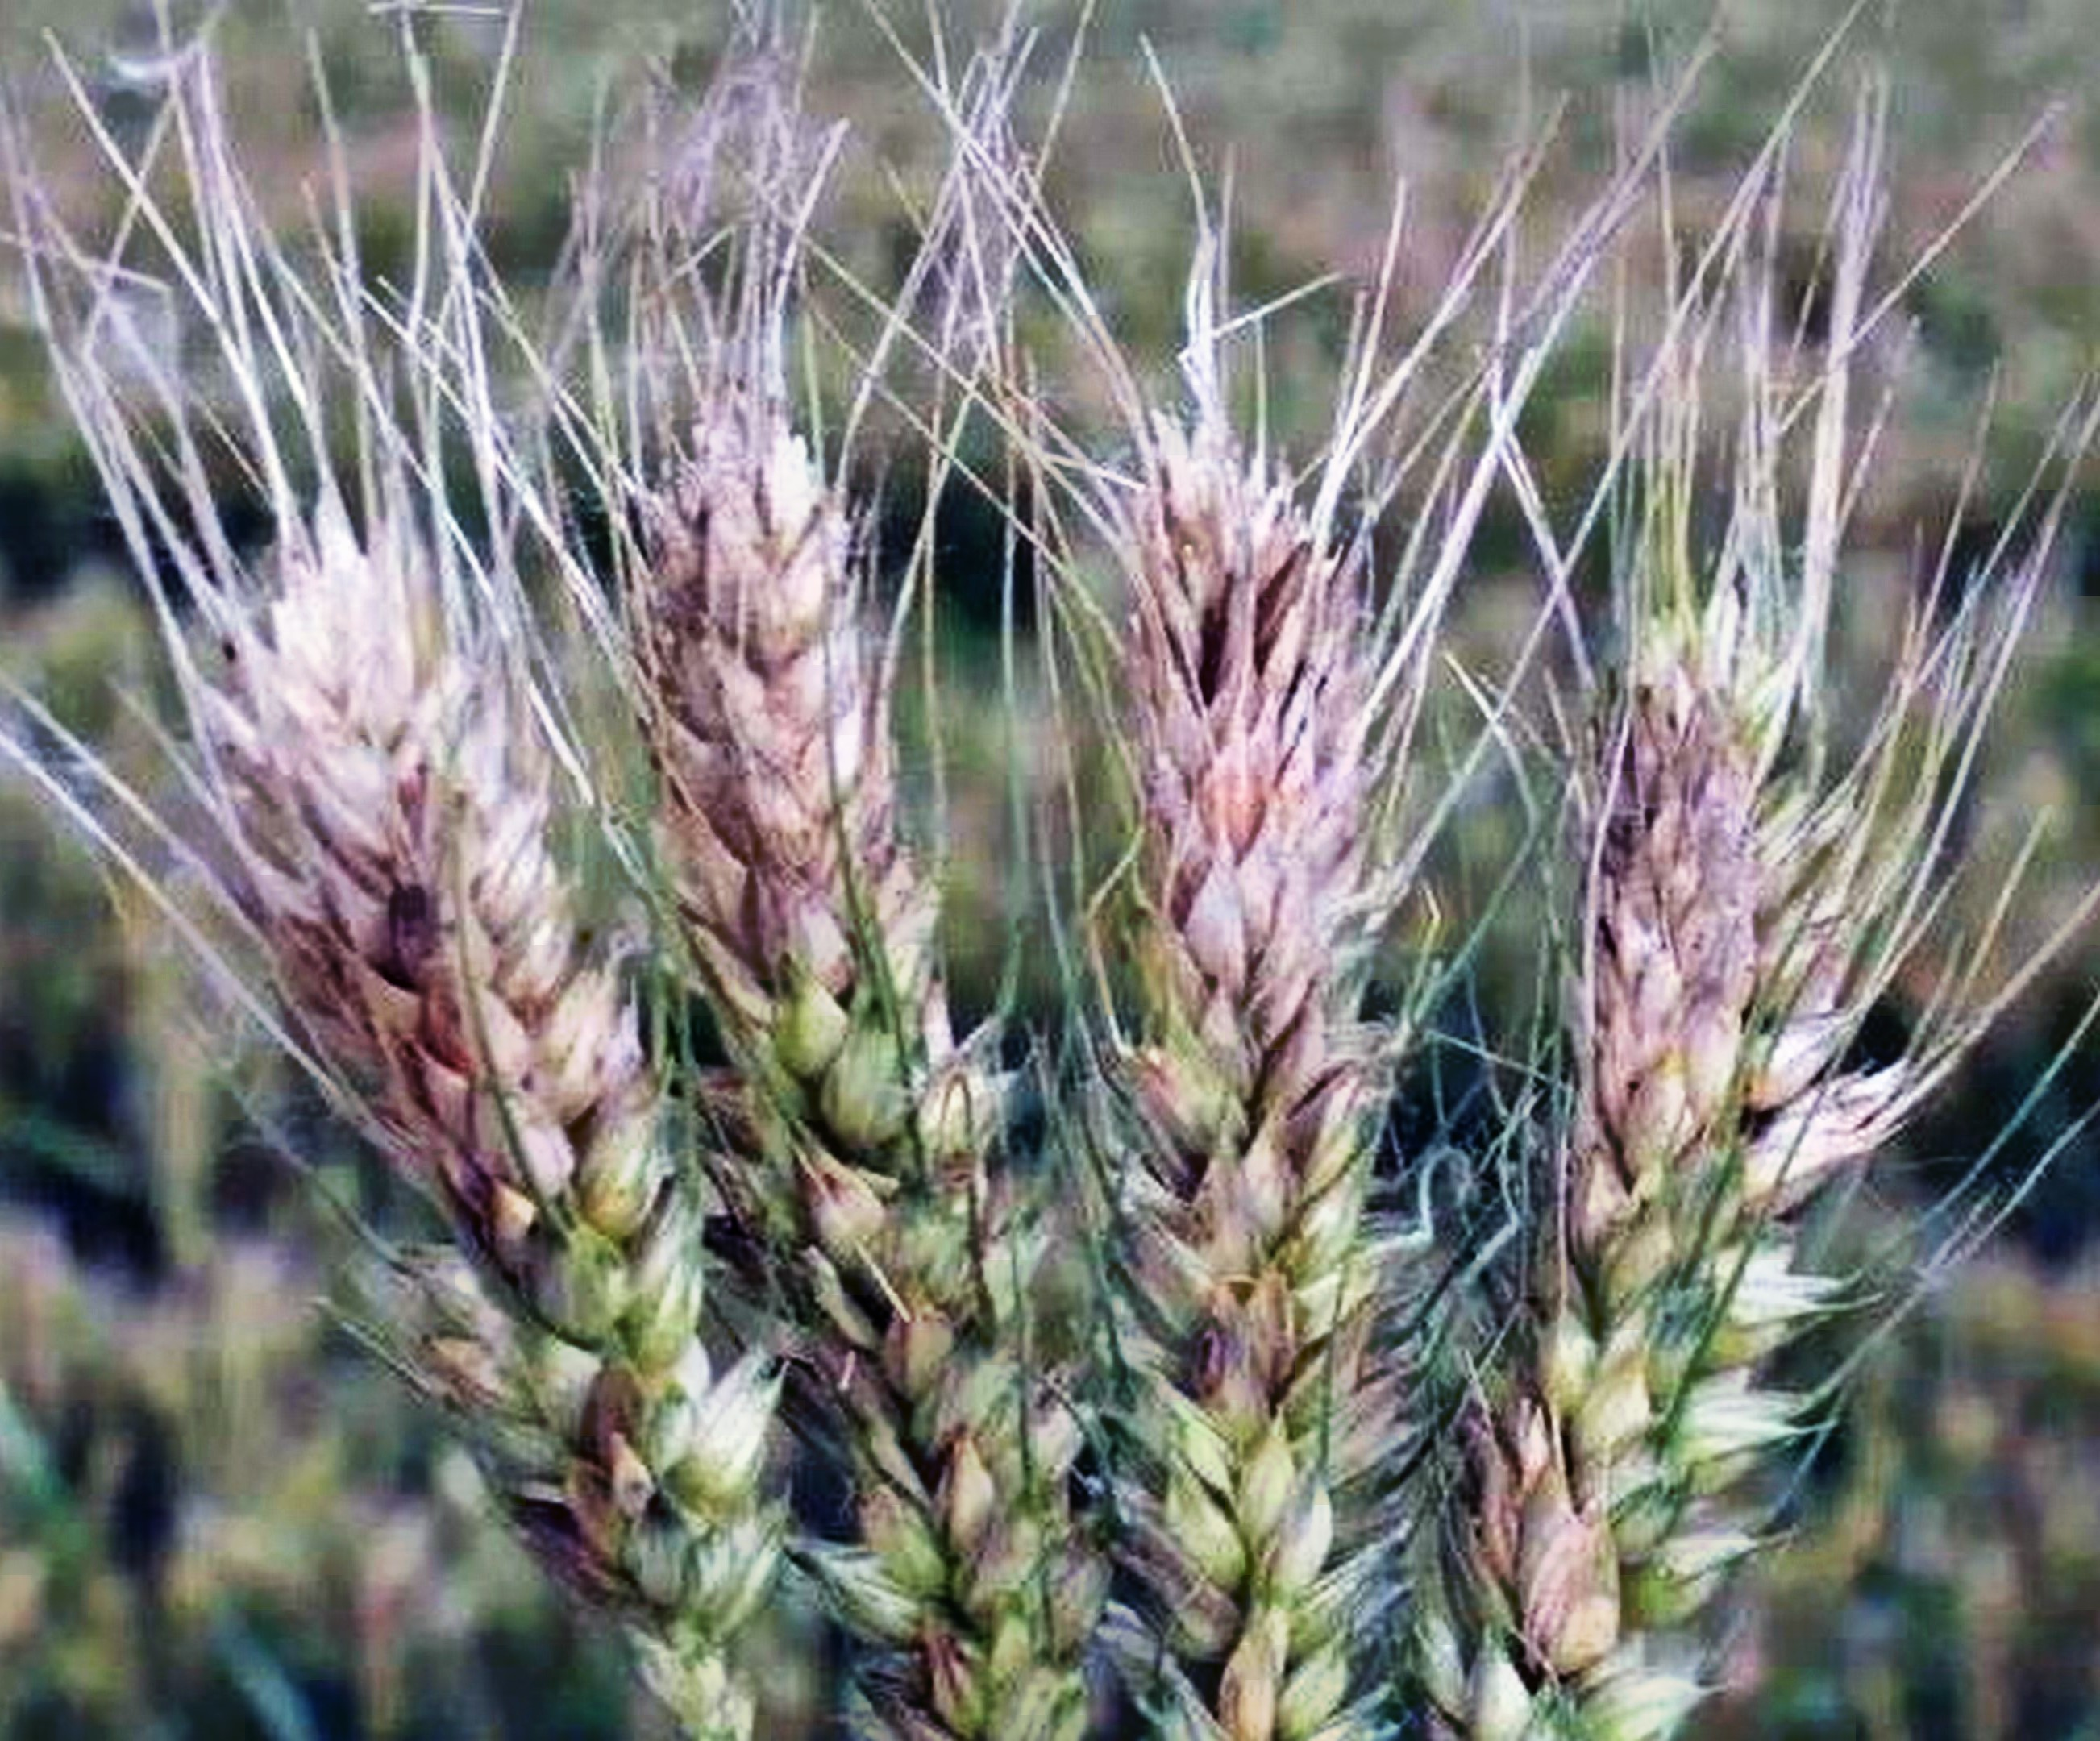Wheat scab: (66, 532, 654, 1671), (1005, 403, 1444, 1722), (1491, 565, 1819, 1673)
